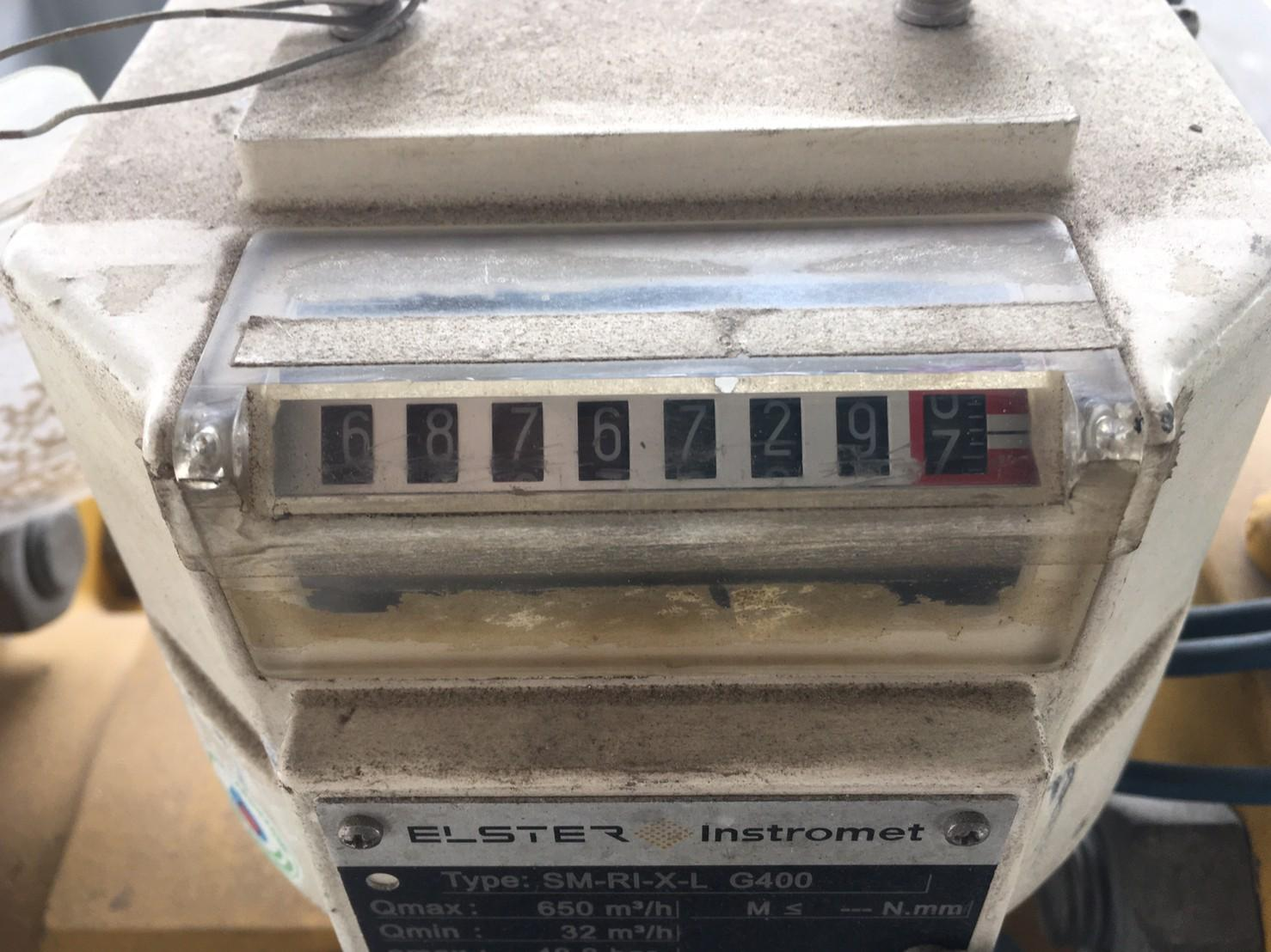analog_dial: (270, 389, 1041, 498)
